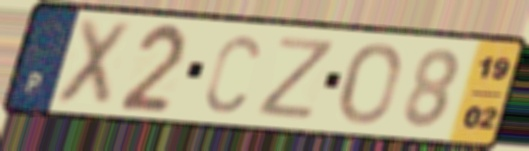2: (118, 20, 192, 117)
8: (402, 46, 463, 131)
C: (202, 31, 262, 115)
O: (337, 41, 403, 128)
X: (50, 15, 137, 111)
Z: (253, 34, 340, 123)
